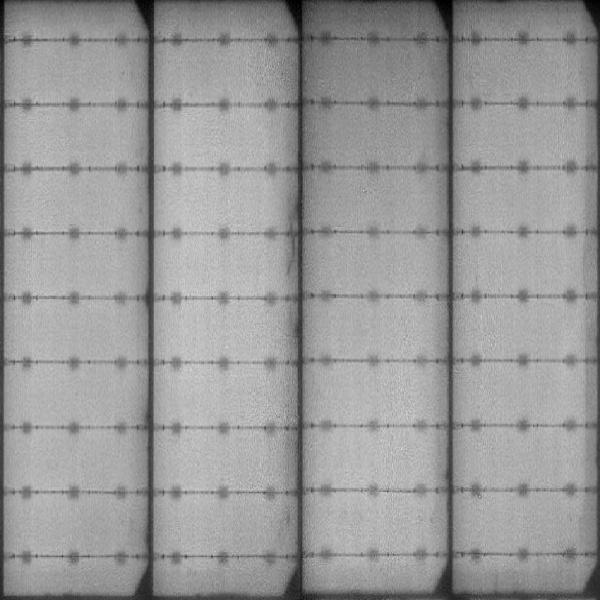scratch: (284, 235, 299, 279)
